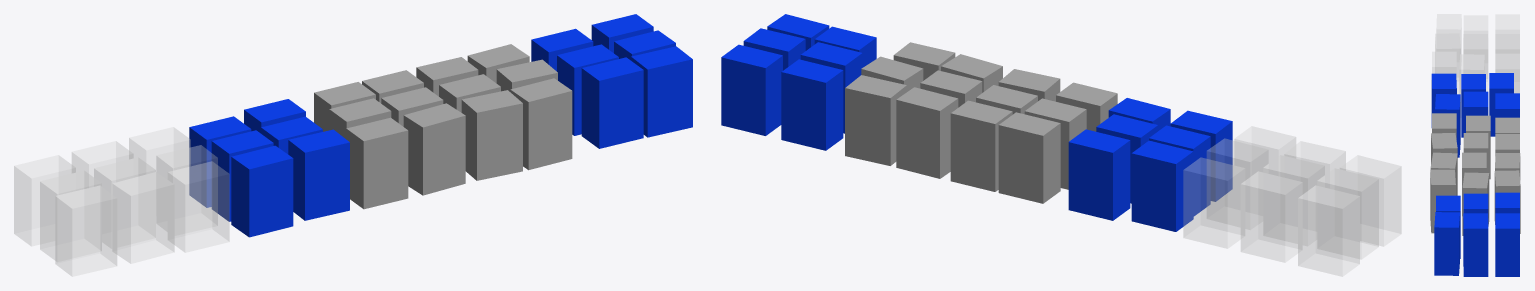
File: Rice_rewt3q_Pack02.fbx
3 renders of one model, left to right at view 1: azimuth 30°, elevation 25°; view 2: azimuth 150°, elevation 25°; view 3: azimuth 270°, elevation 25°, orthographic. The views are drawn at different scales.
Parts seen in each view (by area): view 1: Rice_rewt3q_Pack02; view 2: Rice_rewt3q_Pack02; view 3: Rice_rewt3q_Pack02.
Part boxes in pixels (x1,y1,x2,y2): Rice_rewt3q_Pack02: (14, 14, 692, 276); Rice_rewt3q_Pack02: (721, 14, 1401, 276); Rice_rewt3q_Pack02: (1430, 14, 1520, 276).
Bounding box in the file's own units: 185 × 19.31 × 32.82.
